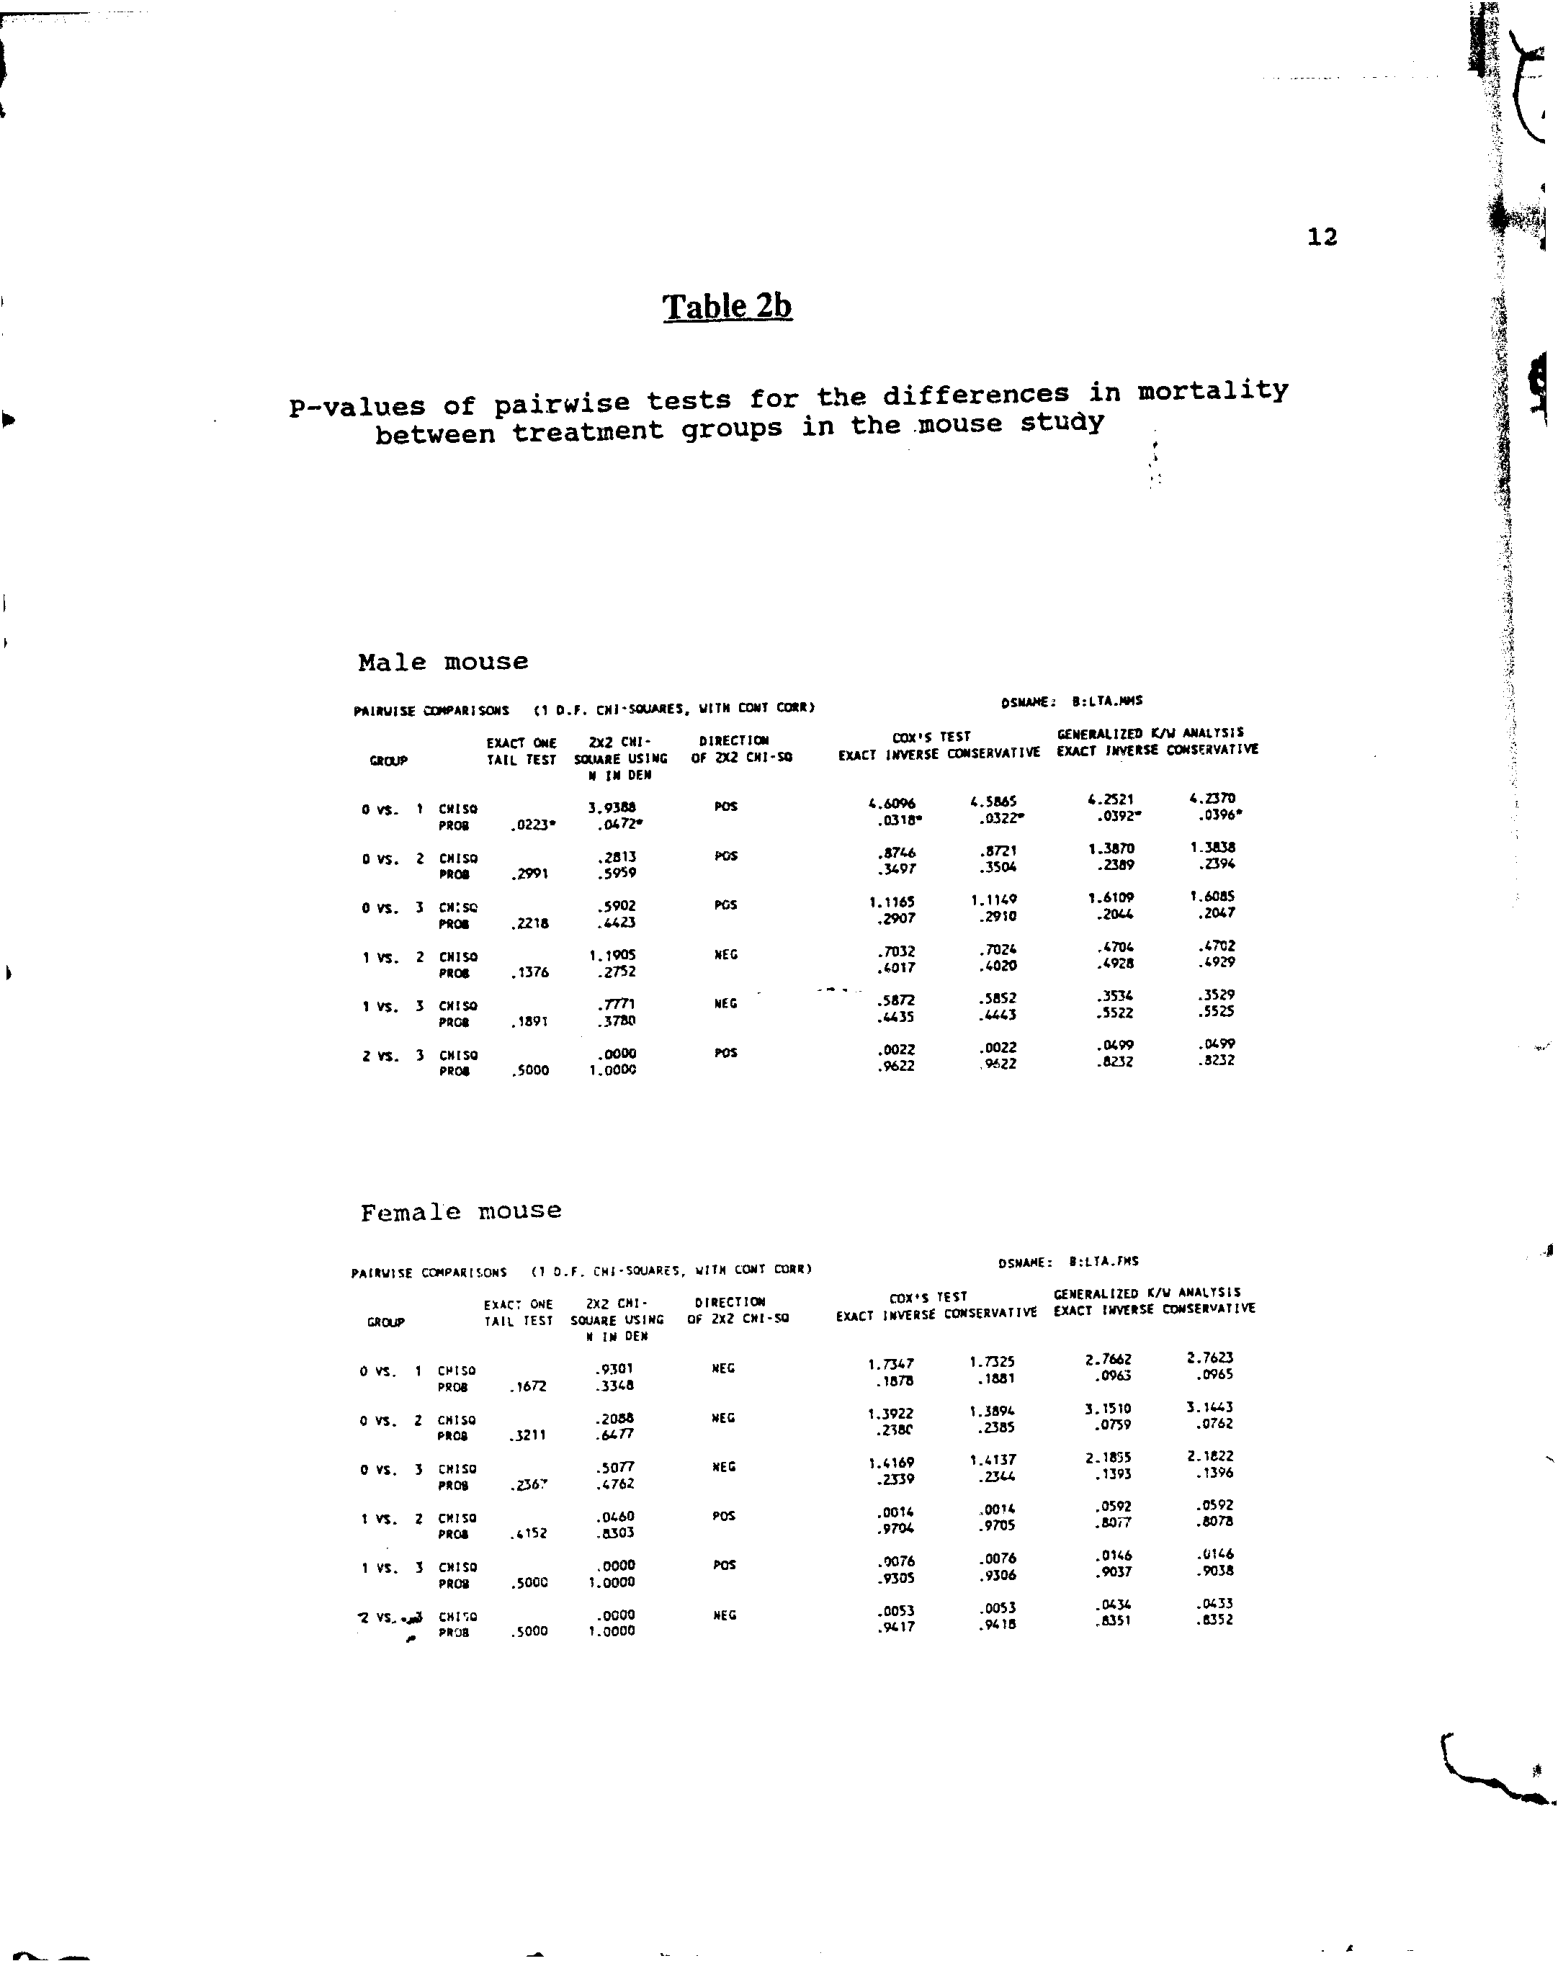nolines: (349, 1251, 1257, 1643), (350, 699, 1264, 1081)
